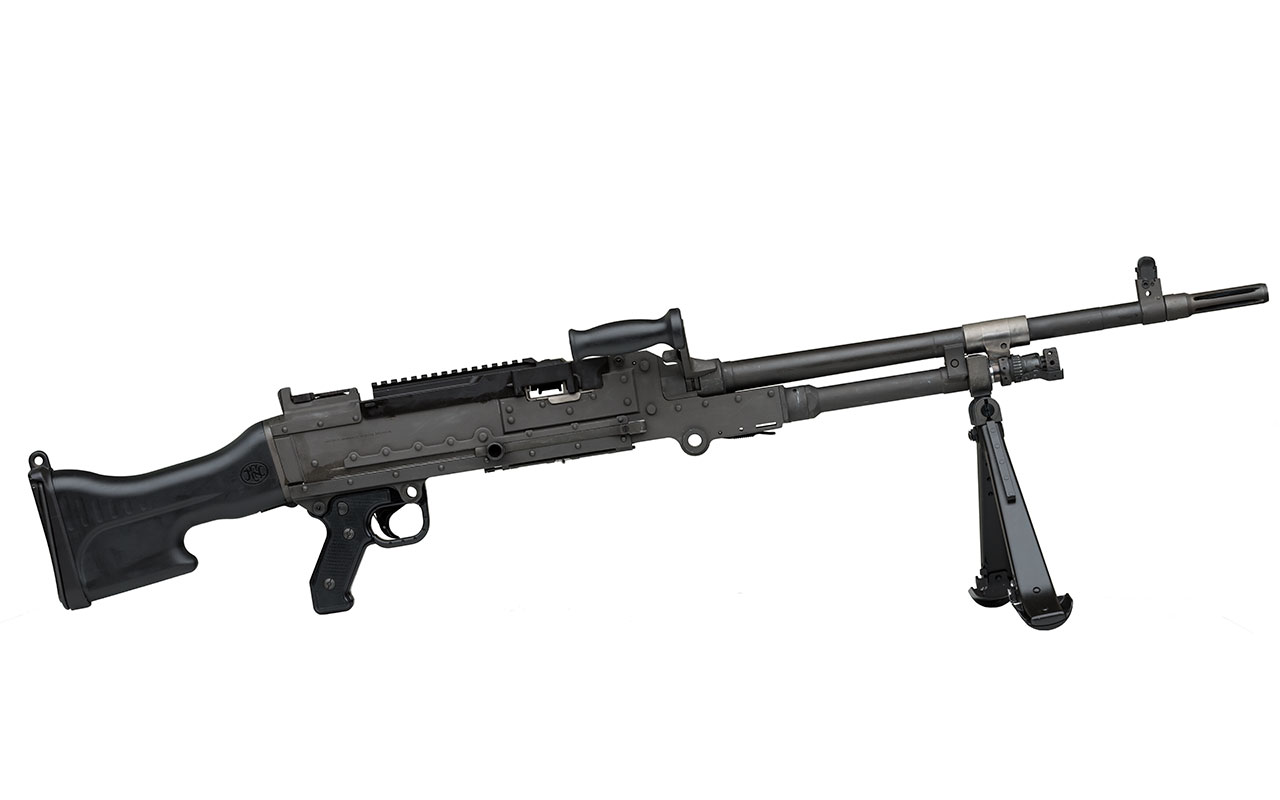Arma Real: (22, 258, 1280, 627)
